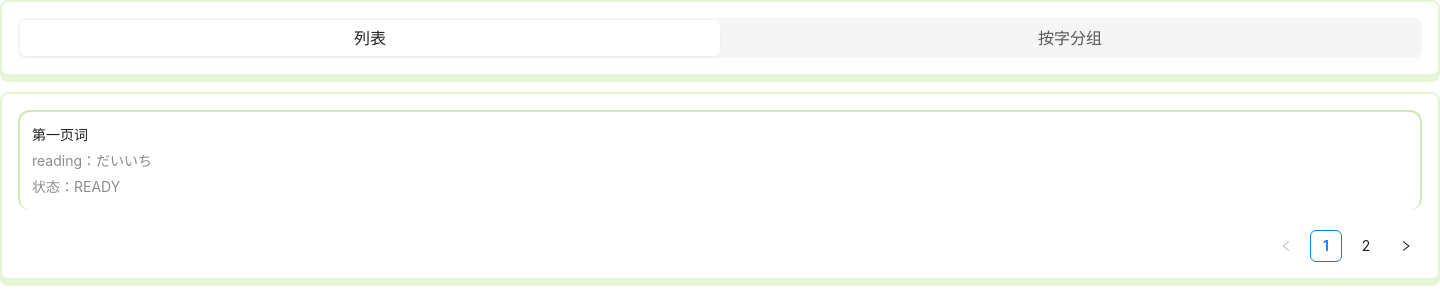
MeWordListPage › loads the next page when the user changes pagination
The image size is (1440, 303).
expect the text "第一页词" is shown: met, box left=32, top=126, right=88, bottom=143
Click the list item titled "2": (1366, 246) left=1350, top=230, right=1382, bottom=262
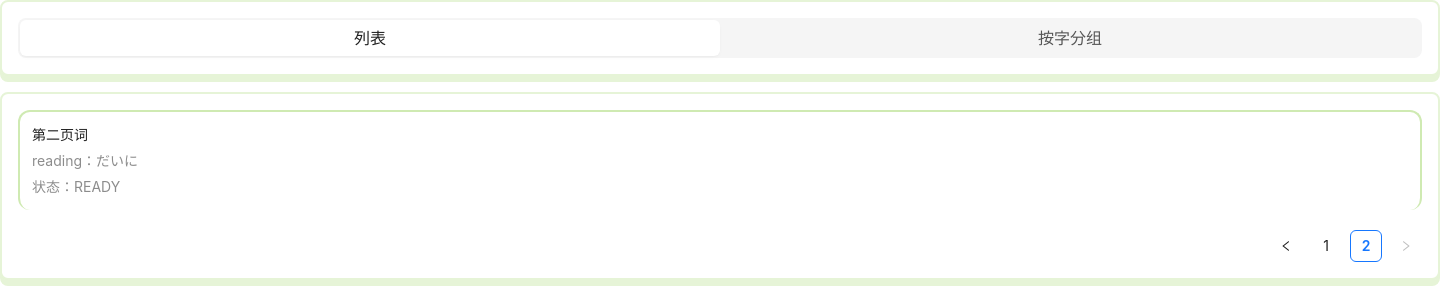
expect the text "第二页词" is shown: met, box left=32, top=126, right=88, bottom=143
